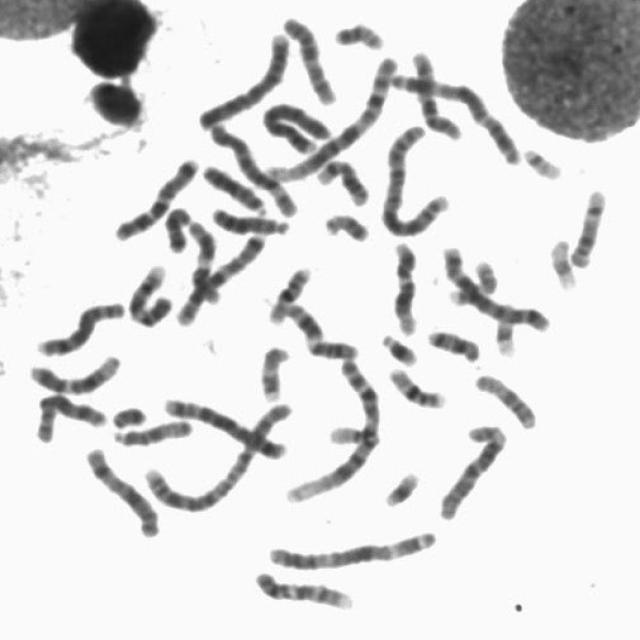A1: (260, 50, 402, 185), (280, 351, 385, 507)
A2: (138, 394, 295, 516), (375, 117, 453, 237)
A3: (384, 65, 523, 167), (261, 523, 441, 571)
B4: (192, 26, 292, 130), (256, 95, 333, 155)
B5: (437, 238, 554, 334), (157, 391, 290, 462)
C10: (276, 10, 340, 106), (404, 44, 465, 142)
C11: (276, 295, 361, 362), (182, 214, 224, 306)
C12: (23, 348, 124, 396), (387, 236, 422, 336)
C6: (202, 115, 302, 219), (432, 417, 511, 523)
C7: (170, 227, 268, 328), (108, 151, 202, 242)
C8: (32, 294, 128, 358), (28, 386, 110, 445)
C9: (247, 564, 356, 612), (122, 258, 175, 328)
D13: (196, 157, 270, 215), (206, 201, 292, 236)
D14: (564, 182, 611, 270), (314, 154, 372, 209)
D15: (470, 366, 541, 431), (107, 411, 195, 448)
E16: (264, 260, 314, 326), (382, 361, 448, 410)
E17: (448, 260, 501, 309), (253, 340, 293, 403)
E18: (422, 322, 483, 364), (160, 201, 194, 254)
F19: (544, 231, 580, 292), (489, 311, 520, 359)
F20: (328, 14, 388, 51), (320, 207, 372, 243)
G21: (378, 465, 422, 508), (375, 328, 421, 368)
G22: (517, 140, 567, 182), (323, 418, 382, 448)
X: (78, 442, 164, 540)
Y: (106, 400, 150, 430)
